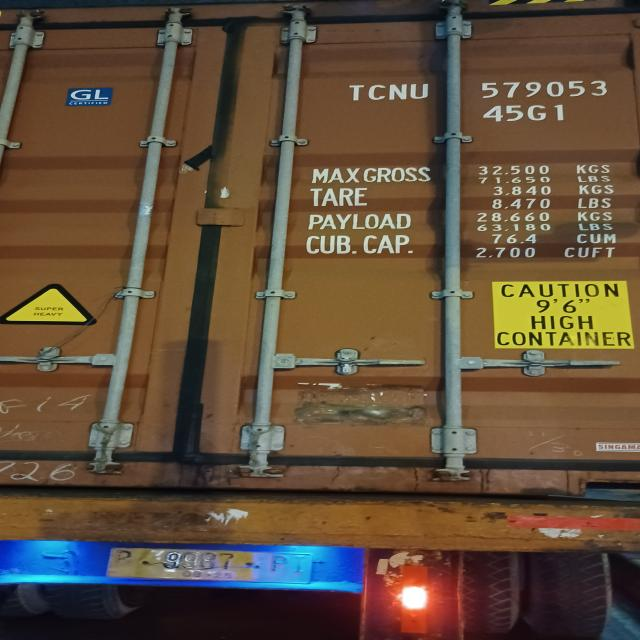seal: (333, 356, 359, 375)
